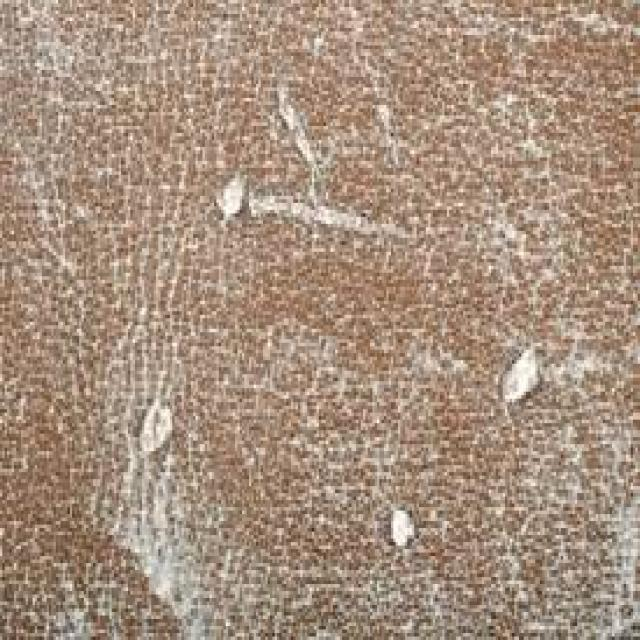Healed Injury: (331, 445, 457, 593), (102, 363, 208, 504), (472, 308, 570, 460)
Rotten surface: (584, 407, 637, 631)
